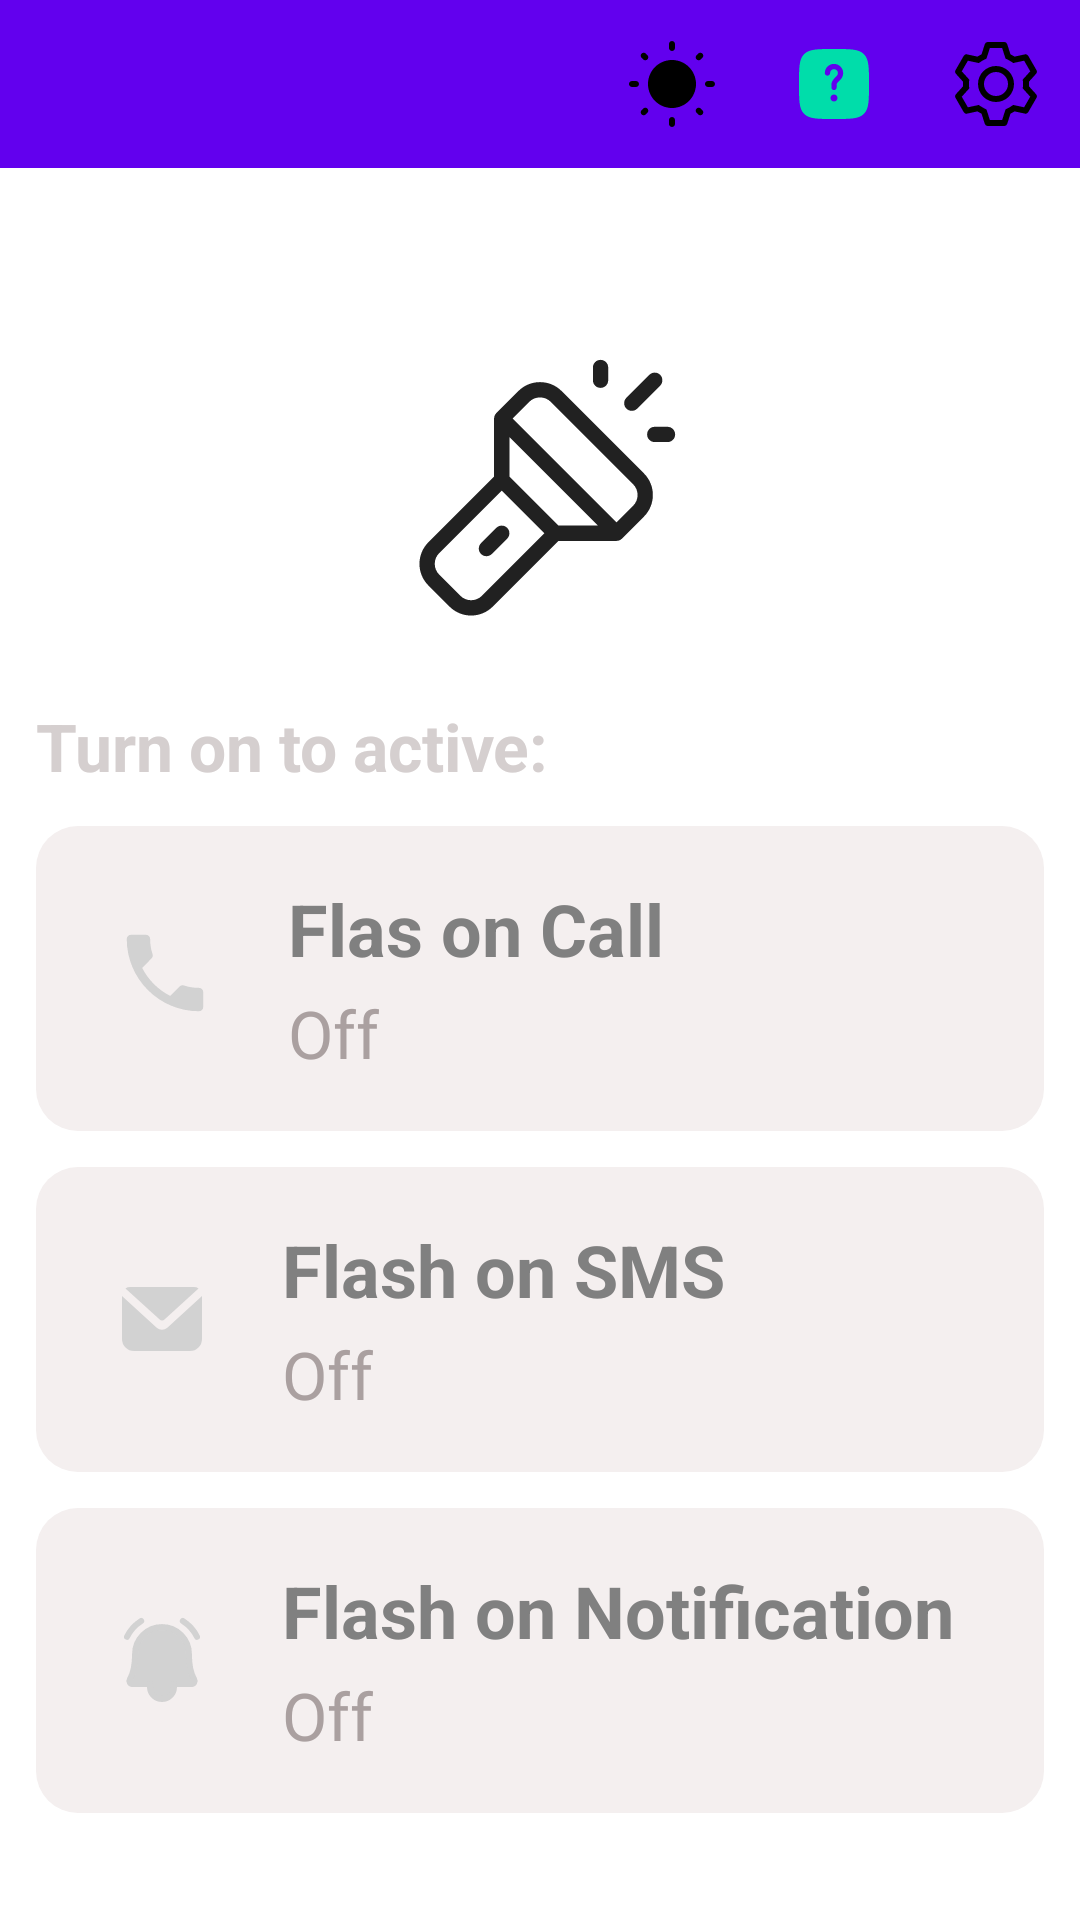

Where icons sit on this 1080 × 1920 app screen, as (x1, y1, x2, y2):
flashlight: (419, 359, 676, 616)
message: (122, 1287, 202, 1351)
phone: (127, 935, 203, 1011)
